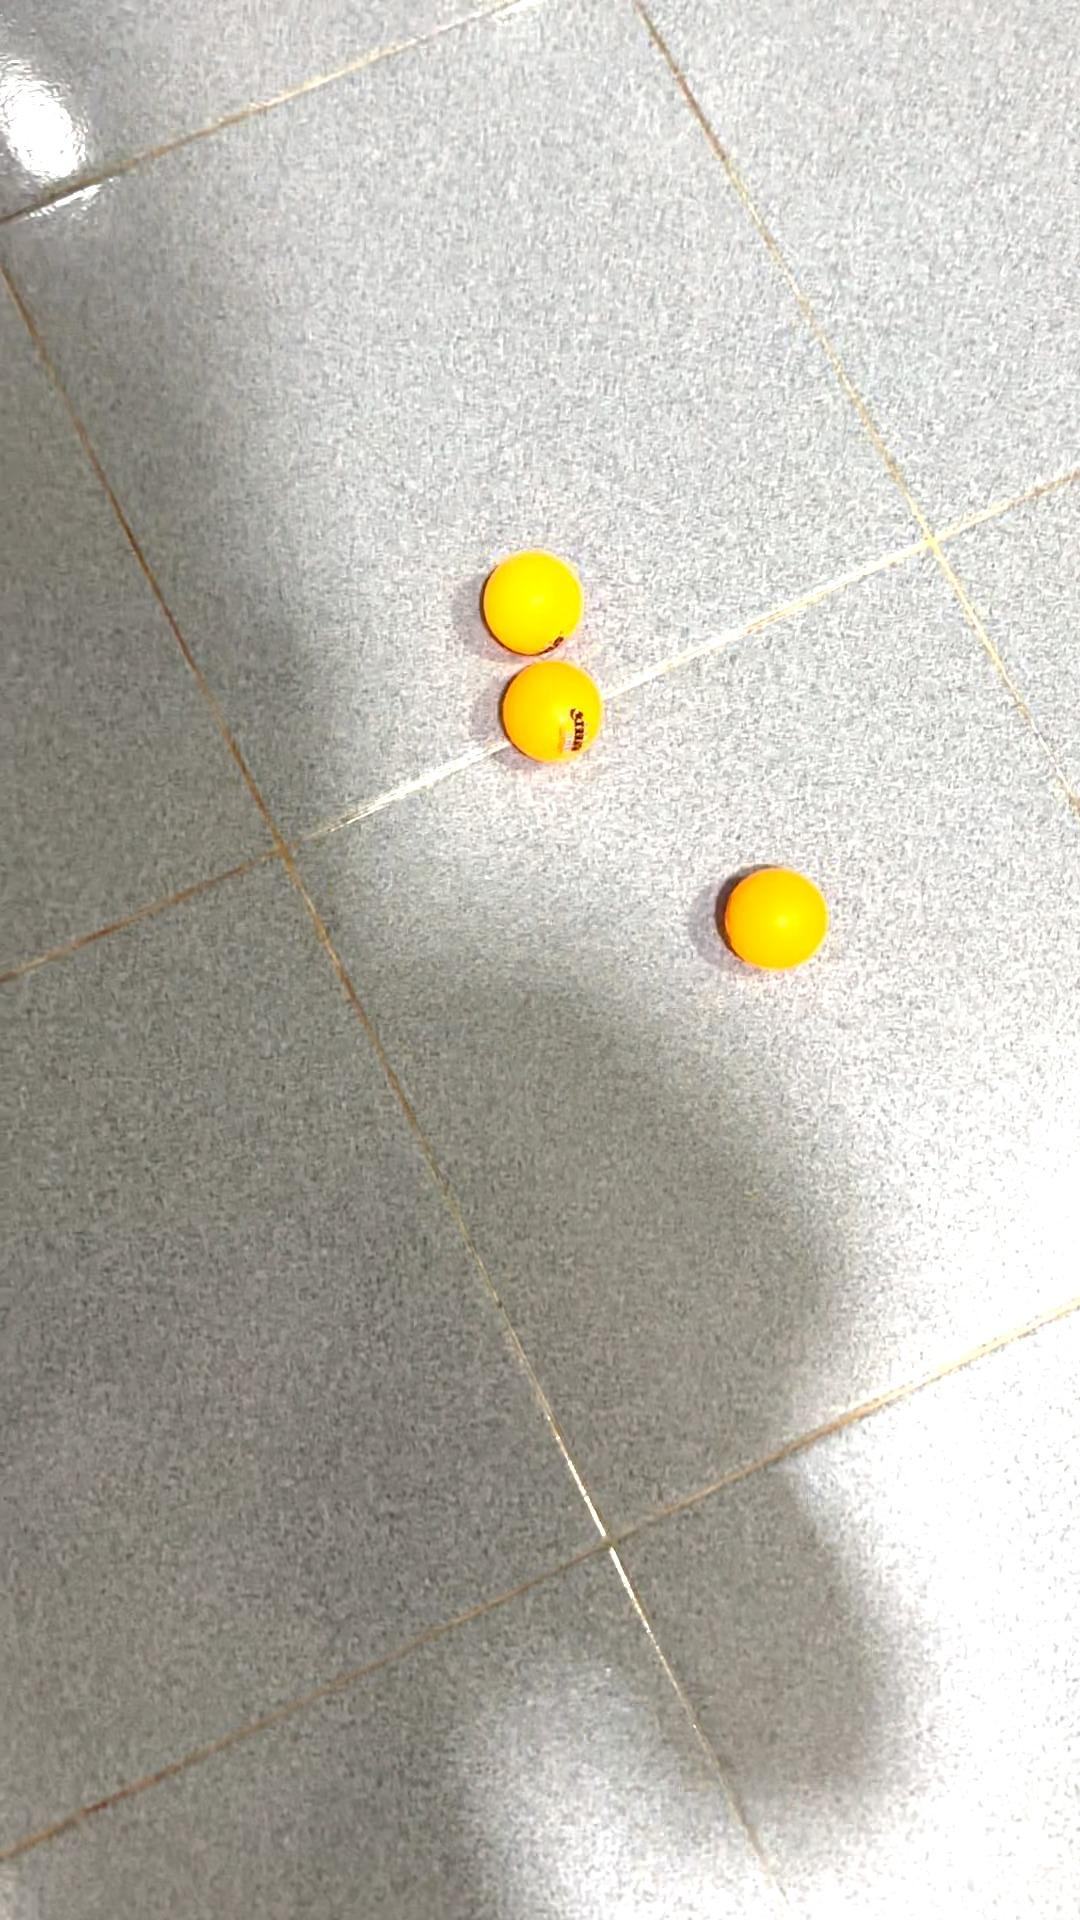oball: (468, 534, 593, 662), (708, 851, 833, 977), (497, 658, 615, 773)
